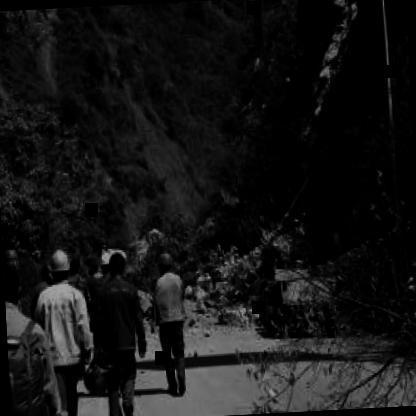head: (2, 259, 24, 306), (102, 249, 126, 276), (1, 242, 22, 270)
helmet: (45, 247, 73, 282), (152, 247, 175, 277)
